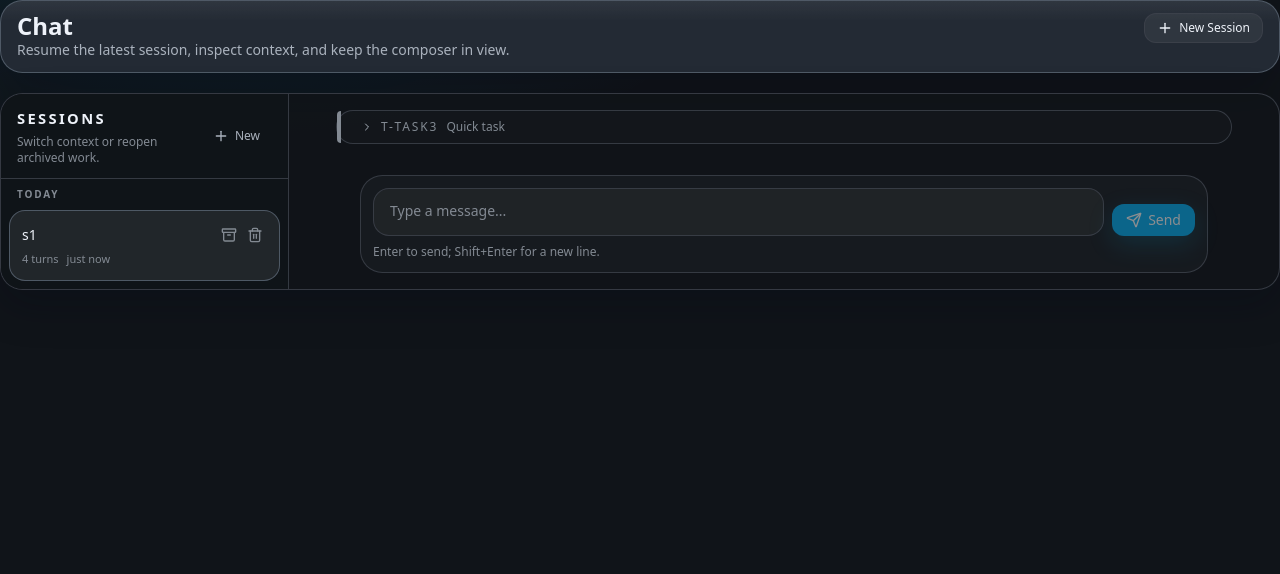
Test: Chat › status_report < 3: consecutive status_reports do NOT collapse — render as individual StatusReportLines
This screenshot has width=1280, height=574.
Closed thread (result_delivery present) is collapsed by default — click to expand
Click the button with test id "thread-toggle" at (410, 127), box x1=349 y1=111 x2=1231 y2=143
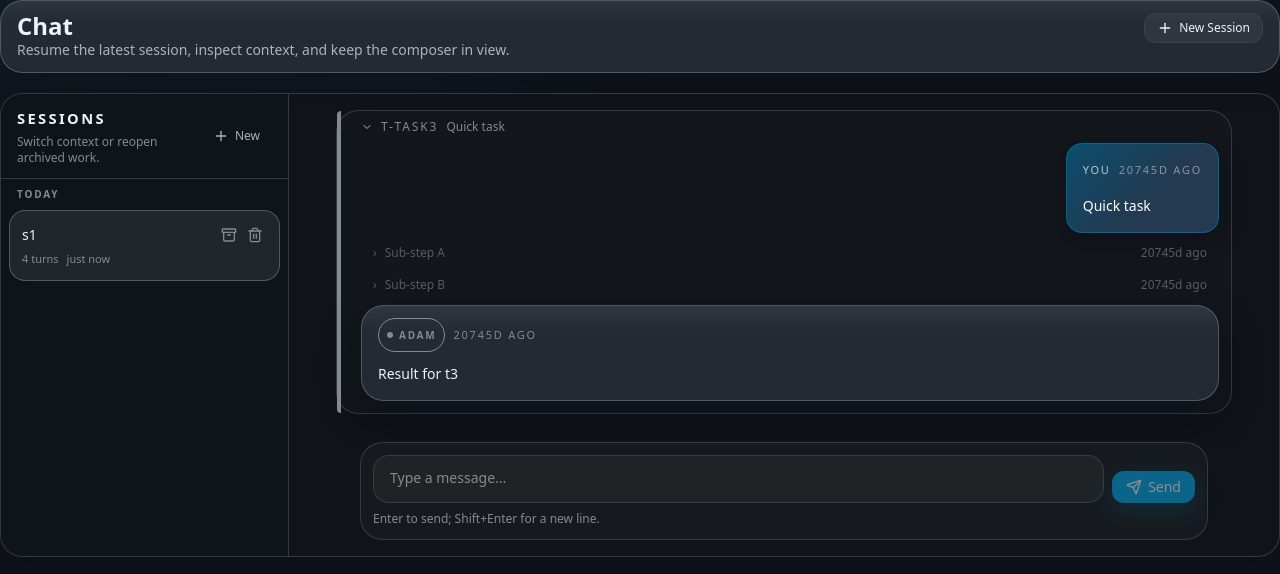
Expected: the number of elements with test id "status-report-line" is 2, x1=361 y1=241 x2=1219 y2=265; x1=361 y1=273 x2=1219 y2=297
Expected: the text "Sub-step A" is shown, x1=385 y1=244 x2=445 y2=261
Expected: the text "Sub-step B" is shown, x1=385 y1=276 x2=445 y2=293
